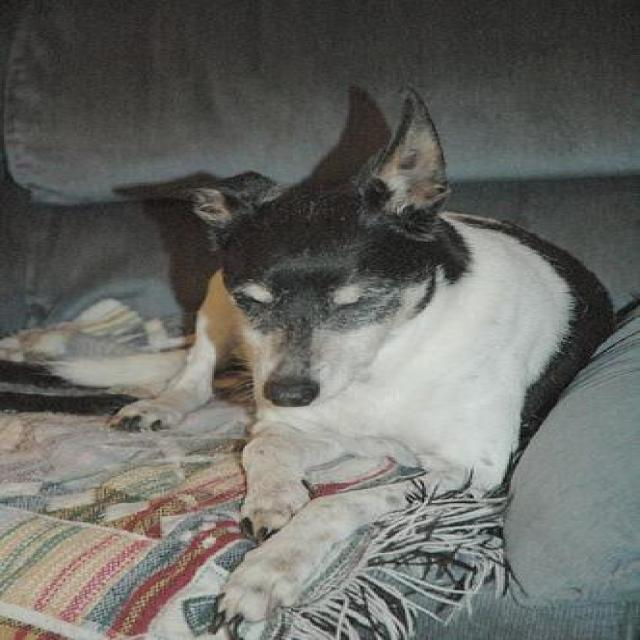toy_terrier: (106, 86, 607, 637)
